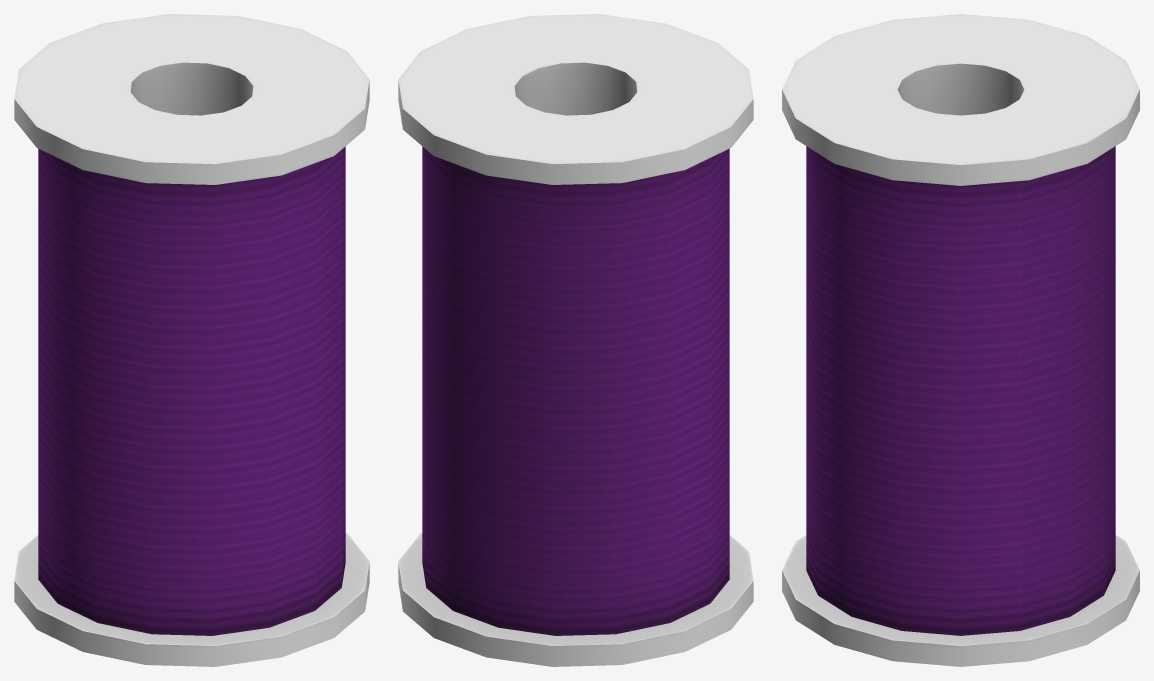
File: thread_06.fbx
3 views of the same model, side by side, from view 1: azimuth 30°, elevation 25°; view 2: azimuth 150°, elevation 25°; view 3: azimuth 270°, elevation 25° (orthographic).
Visible parts, largest first — view 1: thread_06; view 2: thread_06; view 3: thread_06.
Boxes of the visible parts, x1,y1,x2,y2 form: thread_06: [14, 14, 369, 666]; thread_06: [398, 14, 753, 666]; thread_06: [782, 14, 1139, 666].
Bounding box in the file's own units: 8.4 × 13 × 8.4.
